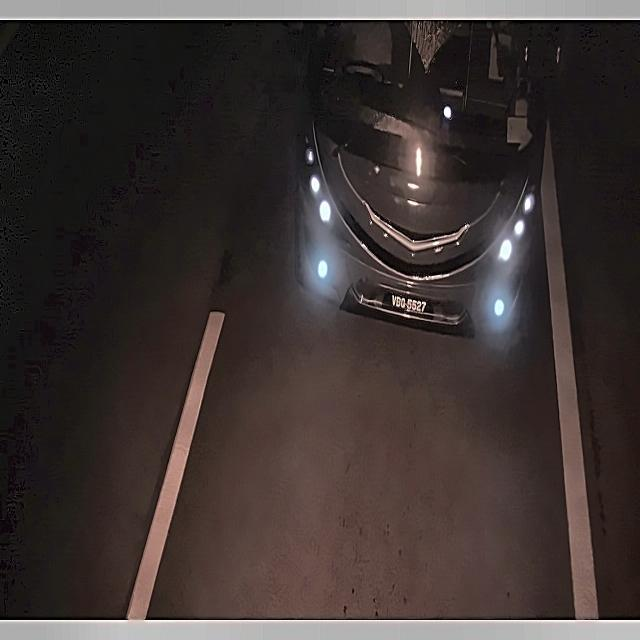car: (379, 279, 438, 324)
